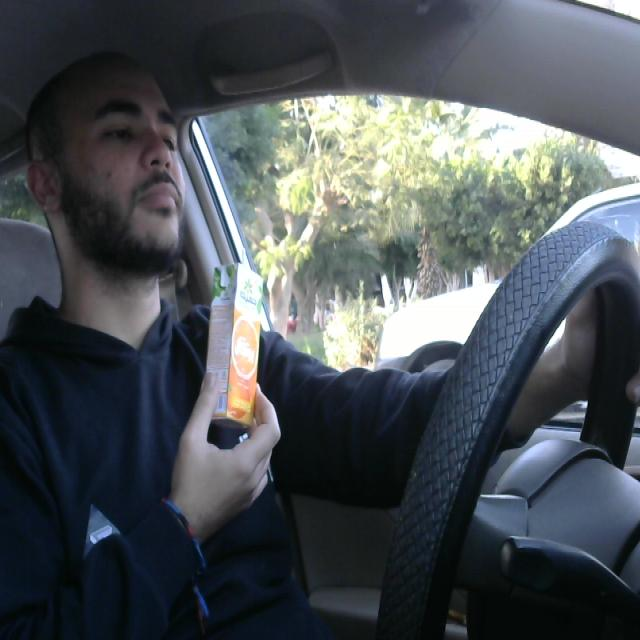drinking: (199, 248, 259, 431)
